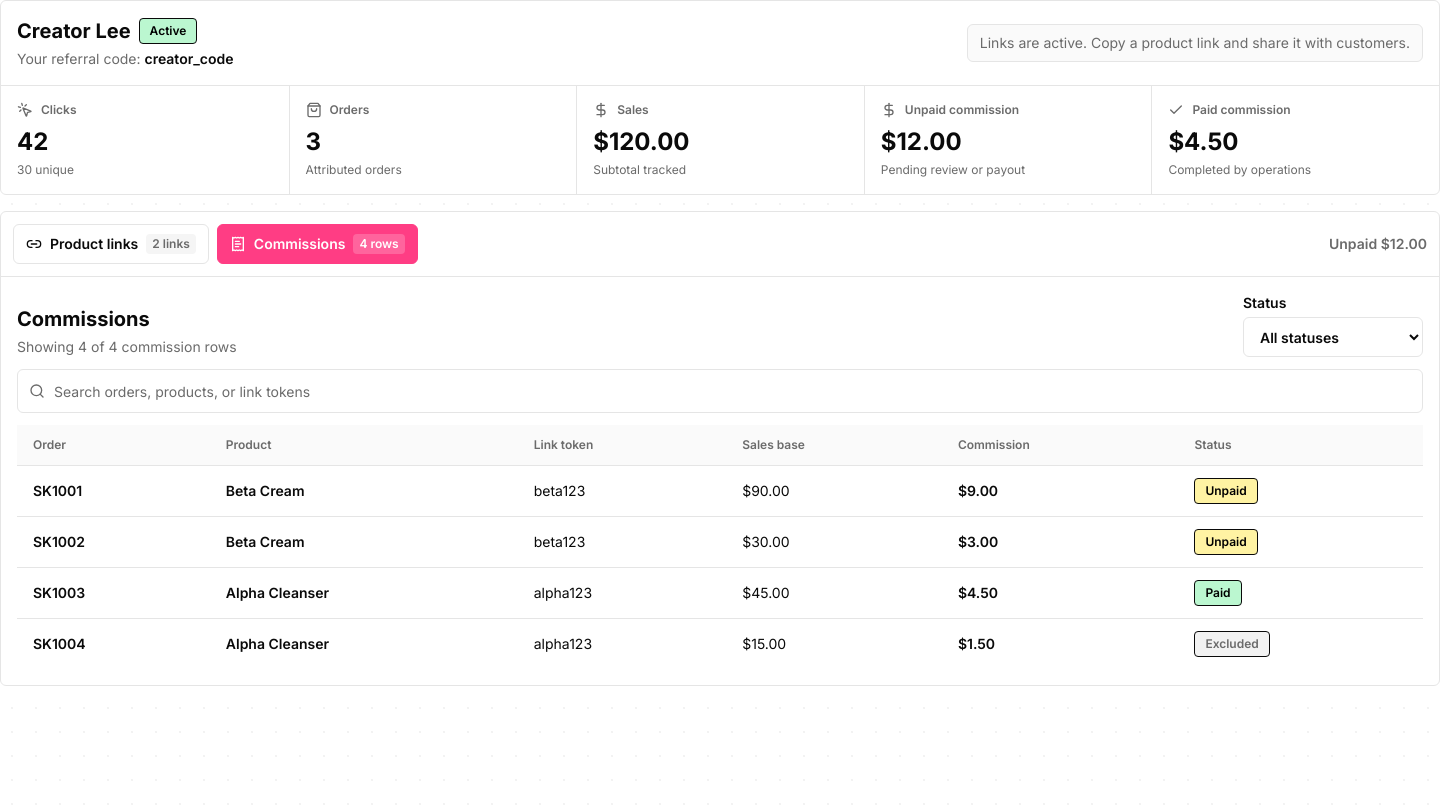
Test: PromoterPortalClient › filters commissions by payout status and order or product text
Select "Paid" in the dropdown named "Filter commissions by status" at (1333, 337), box [1243, 317, 1423, 357]
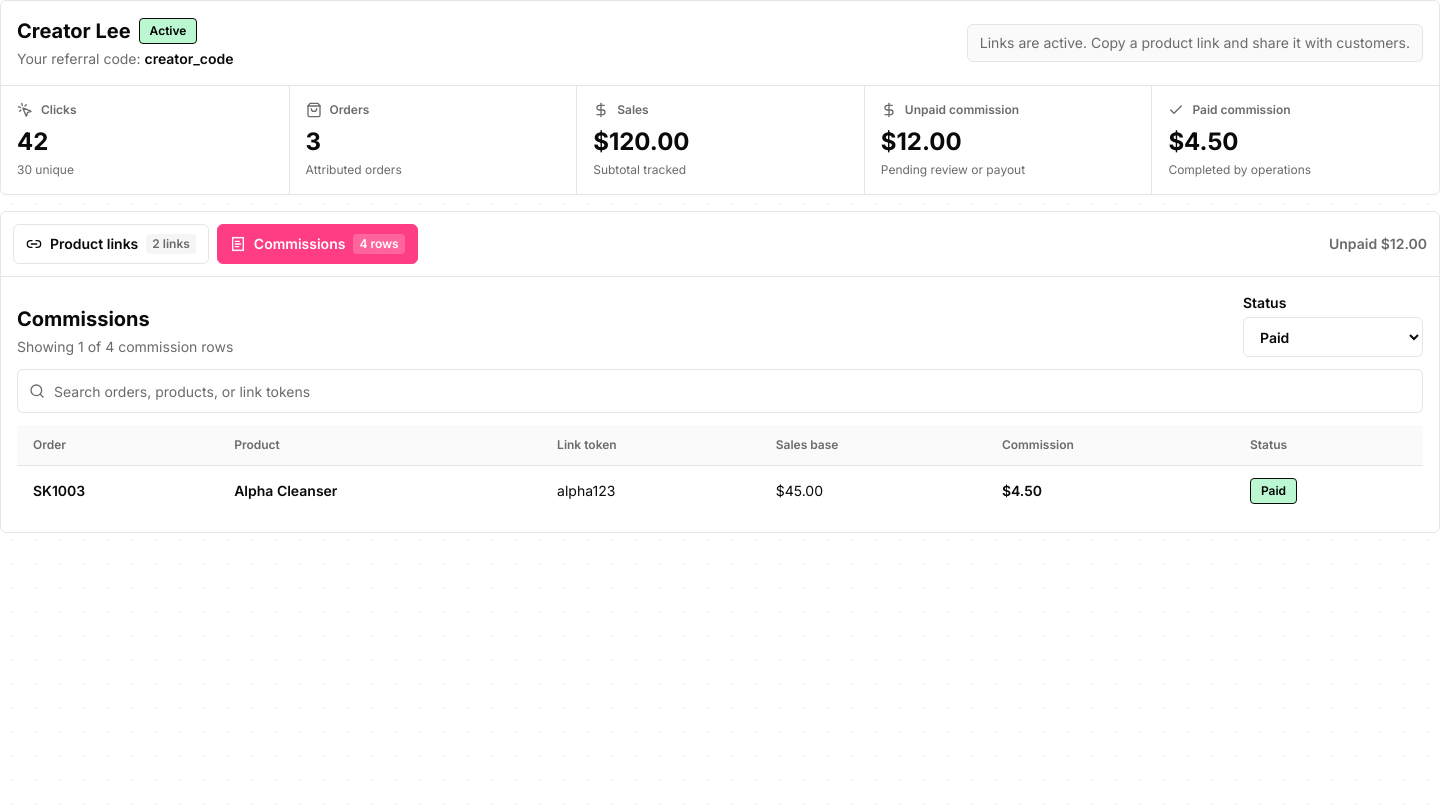
Expected: the row with test id "promoter-commission-commission_paid" is shown, [17, 466, 1423, 516]
Expected: the text "Showing 1 of 4 commission rows" is shown, [17, 338, 233, 355]
Expected: the row with test id "promoter-commission-commission_pending" is gone
Type "SK1001" into the field named "Search commissions".
click(720, 391); type("SK1001")  # box [17, 369, 1423, 413]
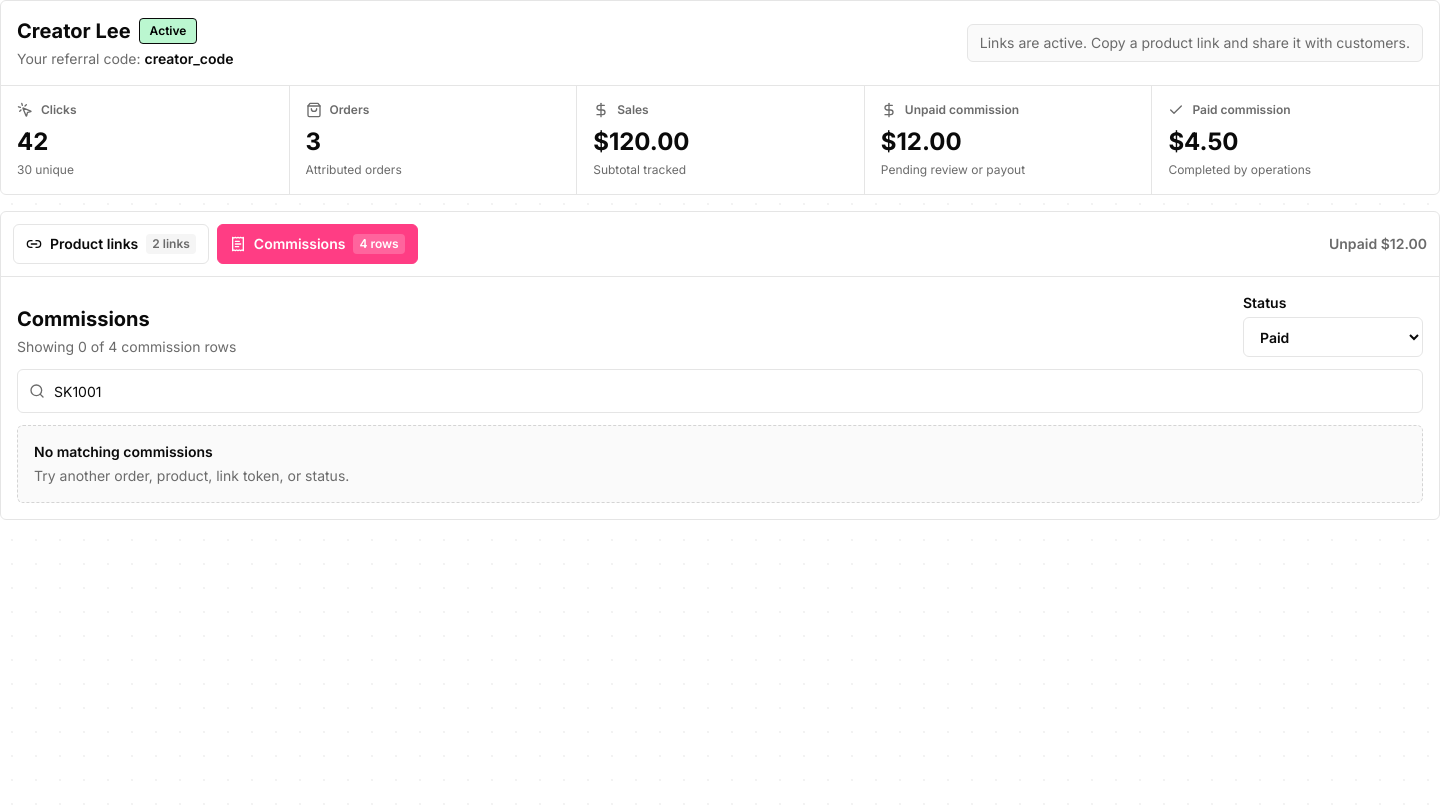
Expected: the text "No matching commissions" is shown, [34, 443, 213, 460]
Select "All statuses" in the dropdown named "Filter commissions by status" at (1333, 337), box [1243, 317, 1423, 357]
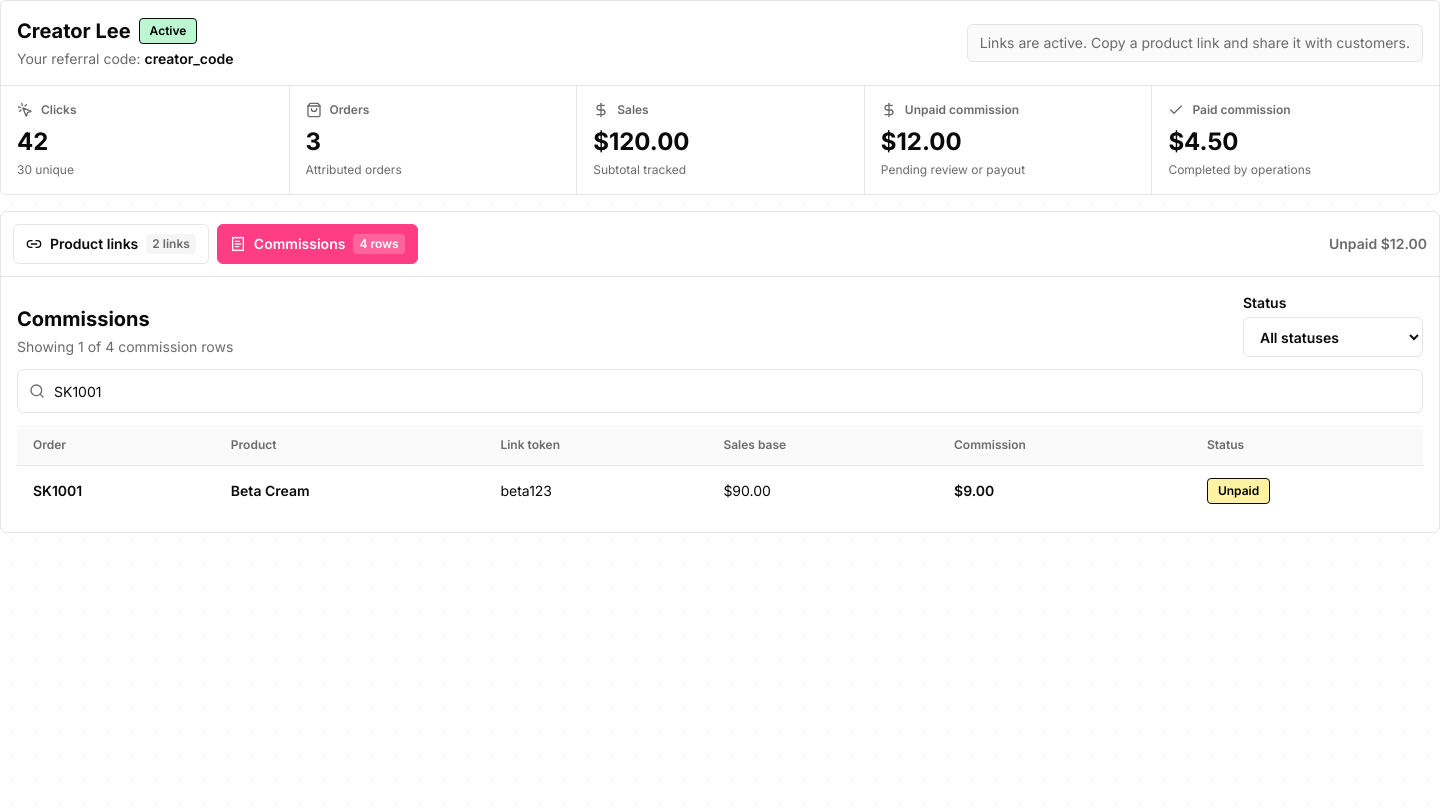
Expected: the row with test id "promoter-commission-commission_pending" is shown, [17, 466, 1423, 516]
